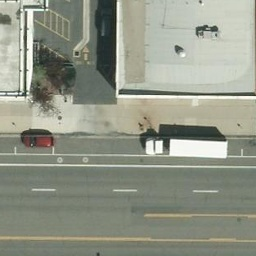car: (97, 6, 114, 42), (21, 130, 54, 148)
